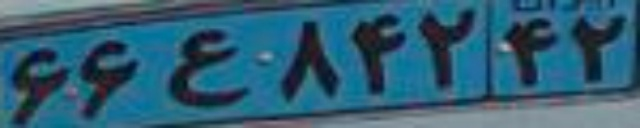2: (416, 8, 480, 89), (569, 13, 627, 82)
4: (350, 13, 409, 95), (503, 16, 557, 86)
6: (5, 48, 69, 126), (77, 40, 136, 117)
8: (280, 19, 341, 101)
ain: (164, 29, 254, 107)
